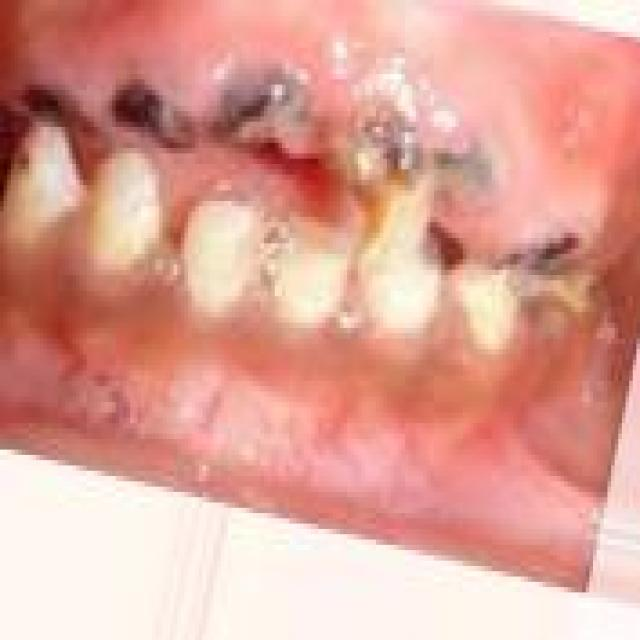caries: (325, 95, 430, 271), (221, 72, 322, 188), (102, 70, 203, 168), (510, 217, 597, 316), (437, 122, 512, 228), (19, 62, 83, 153)
